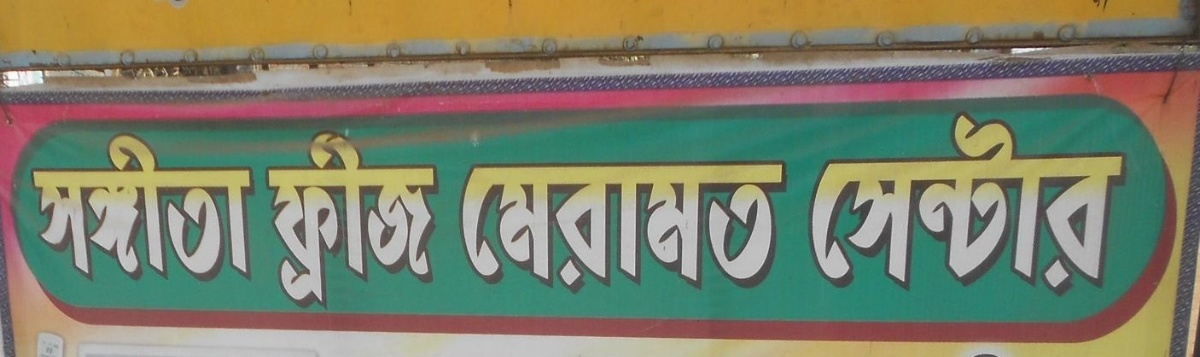text: (833, 109, 848, 299), (849, 109, 864, 299), (865, 109, 880, 299), (881, 109, 896, 299), (897, 109, 912, 299), (913, 109, 928, 299), (929, 109, 944, 299), (945, 109, 960, 299), (961, 109, 976, 299), (977, 109, 992, 299), (993, 109, 1008, 299), (1009, 109, 1024, 299), (1025, 109, 1040, 299), (1041, 109, 1056, 299), (1057, 109, 1072, 299), (1073, 109, 1088, 299), (1089, 109, 1104, 299), (1105, 109, 1120, 299), (1121, 109, 1136, 299), (273, 130, 288, 311), (289, 130, 304, 311), (305, 130, 320, 311), (321, 130, 336, 311), (337, 130, 352, 311), (353, 130, 368, 311), (369, 130, 384, 311), (385, 130, 400, 311), (401, 130, 416, 311), (417, 130, 432, 311), (33, 131, 48, 285), (49, 131, 64, 285), (65, 131, 80, 285), (81, 131, 96, 285), (97, 131, 112, 285), (113, 131, 128, 285), (129, 131, 144, 285), (145, 131, 160, 285), (161, 131, 176, 285), (177, 131, 192, 285), (193, 131, 208, 285), (209, 131, 224, 285), (225, 131, 240, 285), (241, 131, 255, 285), (465, 160, 480, 295), (481, 160, 496, 295), (497, 160, 512, 295), (513, 160, 528, 295), (529, 160, 544, 295), (545, 160, 560, 295), (561, 160, 576, 295), (577, 160, 592, 295), (593, 160, 608, 295), (609, 160, 624, 295), (625, 160, 640, 295), (641, 160, 656, 295), (657, 160, 672, 295), (673, 160, 688, 295), (689, 160, 704, 295), (705, 160, 720, 295), (721, 160, 736, 295), (737, 160, 752, 295), (753, 160, 768, 295), (769, 160, 784, 295), (433, 130, 443, 311), (823, 109, 832, 299), (263, 130, 272, 311), (461, 160, 464, 295), (785, 160, 788, 295), (1137, 109, 1139, 299), (49, 333, 64, 357), (35, 333, 48, 357), (30, 131, 32, 285), (961, 347, 976, 357), (977, 347, 992, 357), (65, 333, 70, 357), (993, 347, 1004, 357)
